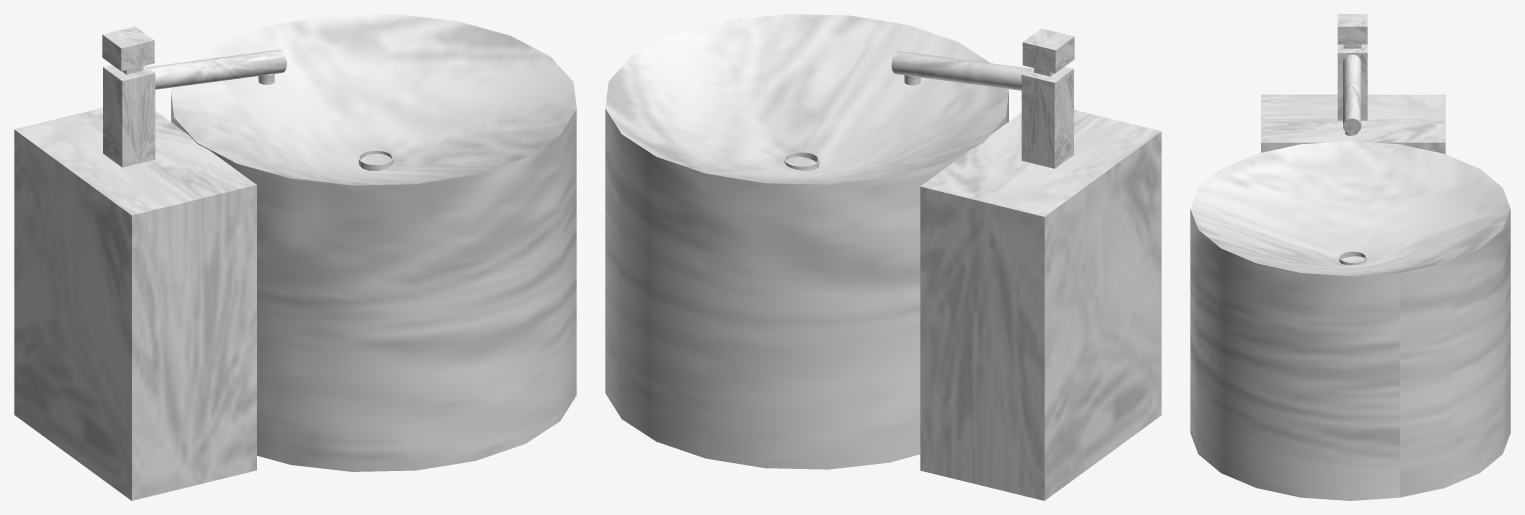
Rendered from Basin.obj.
3 views of the same model, side by side, from view 1: azimuth 30°, elevation 25°; view 2: azimuth 150°, elevation 25°; view 3: azimuth 270°, elevation 25° (orthographic). The views are drawn at different scales.
Visible parts, largest first — view 1: pCylinder7; view 2: pCylinder7; view 3: pCylinder7.
Boxes of the visible parts, x1,y1,x2,y2 form: pCylinder7: [14, 14, 576, 500]; pCylinder7: [605, 14, 1161, 500]; pCylinder7: [1190, 14, 1510, 500].
Bounding box in the file's own units: 4.73 × 3.87 × 3.51.
